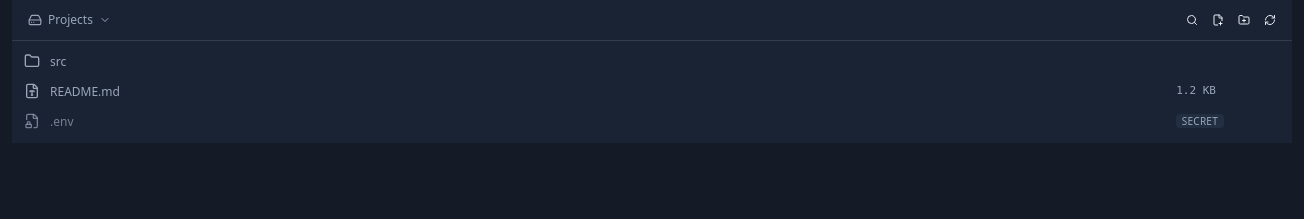
Scenario: FileBrowser › T2.6 fuzzy go-to-file filter (§2(d) keystroke-revealed) › reveals the filter via the toggle and filters as you type (subsequence, case-insensitive)
The width and height of the screenshot is (1304, 219).
Click the button named "find file": {"x": 1192, "y": 20} 1180,8 -> 1204,32
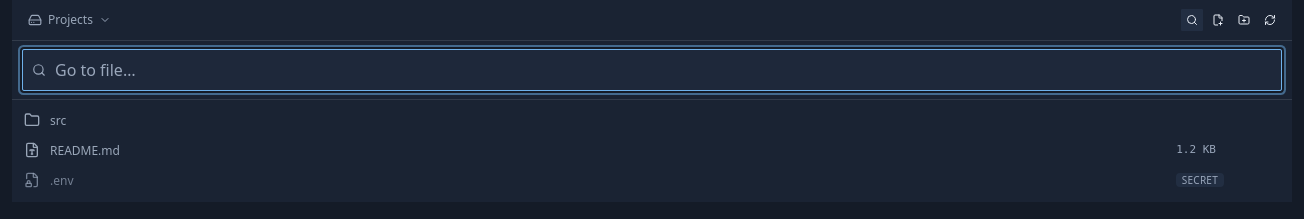
In the search field labelled "Go to file…": {"x": 652, "y": 70} 22,49 -> 1282,91, type "rme"
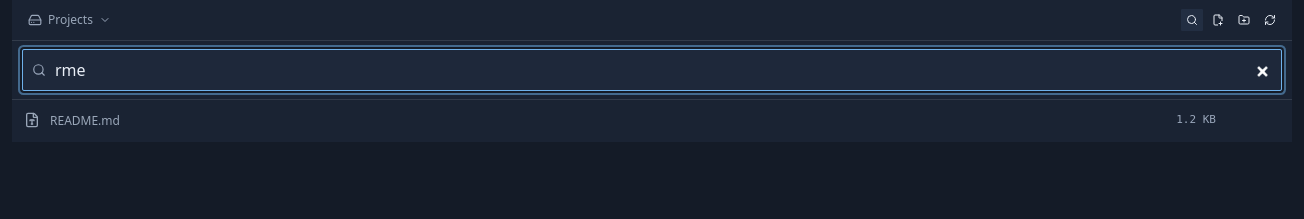
Check: the button "README.md 1.2 KB" is shown, box 12,106 -> 1292,134
Check: the button "src" is gone
